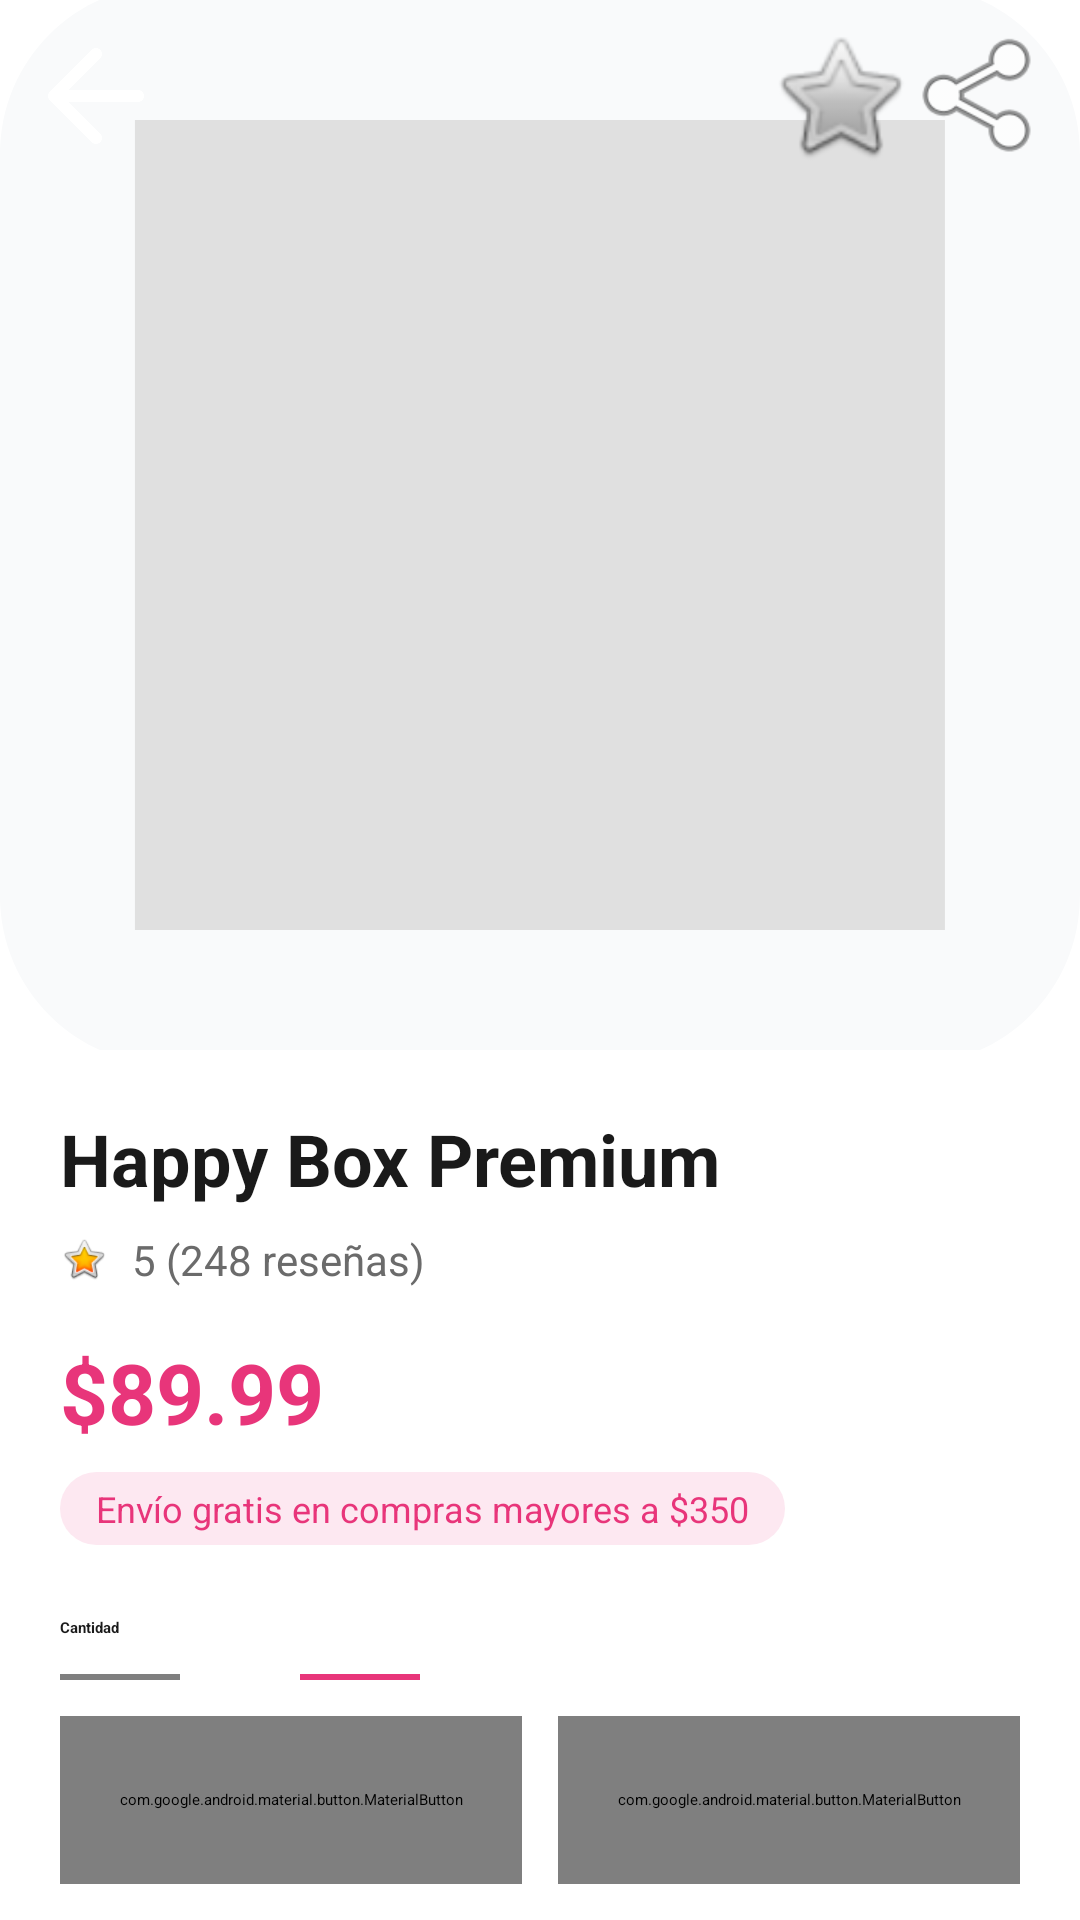

Screen size 1080 × 1920. Icon name, then its center in pixels as (x=x, y=y):
share: (x=976, y=95)
star off: (x=840, y=96)
star on: (x=84, y=1259)
